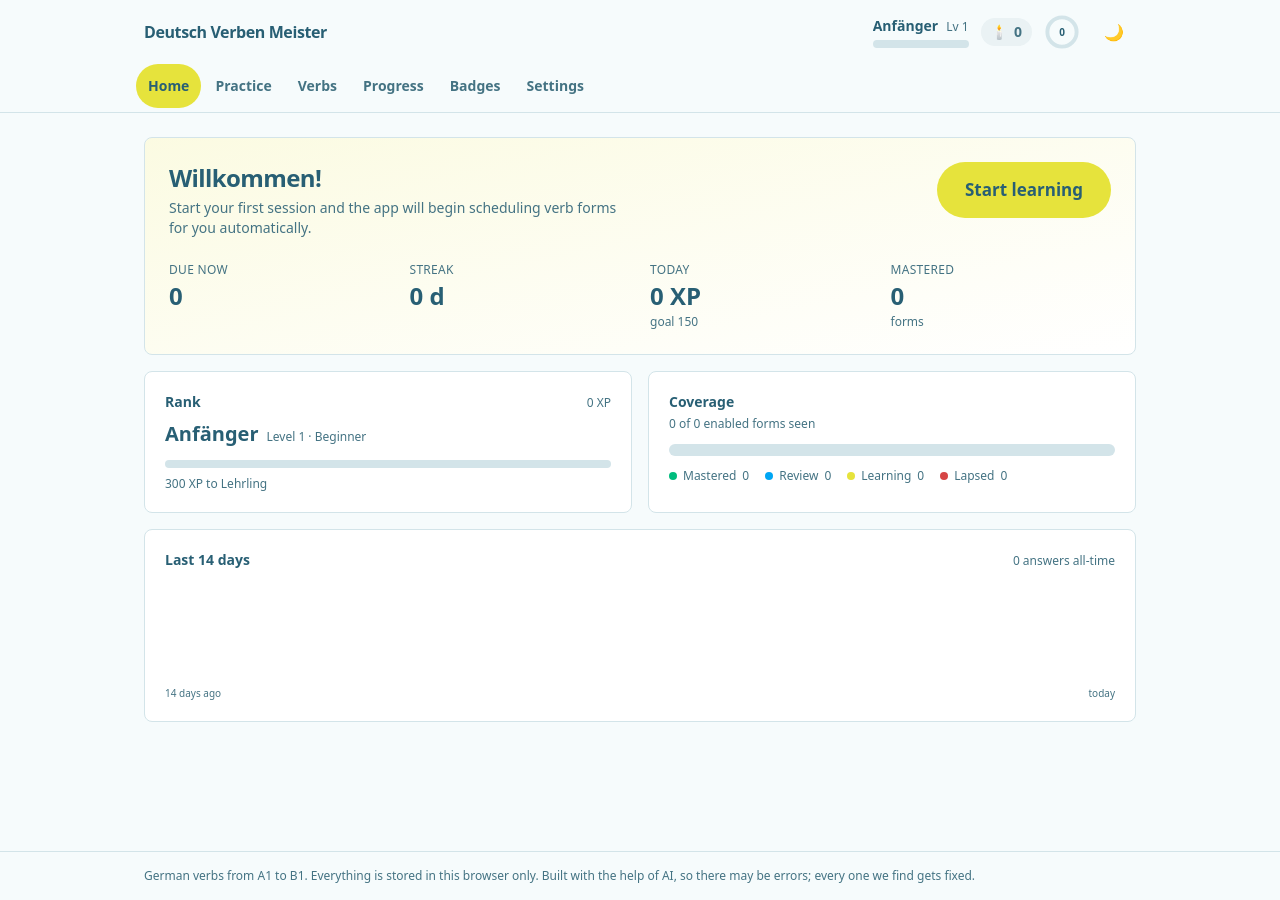
settings drive practice › warns when filters exclude every verb
Check: the heading "Willkommen!" is shown, box x1=169 y1=161 x2=321 y2=194
Click the link "Practice" at (244, 86), box x1=215 y1=76 x2=272 y2=95
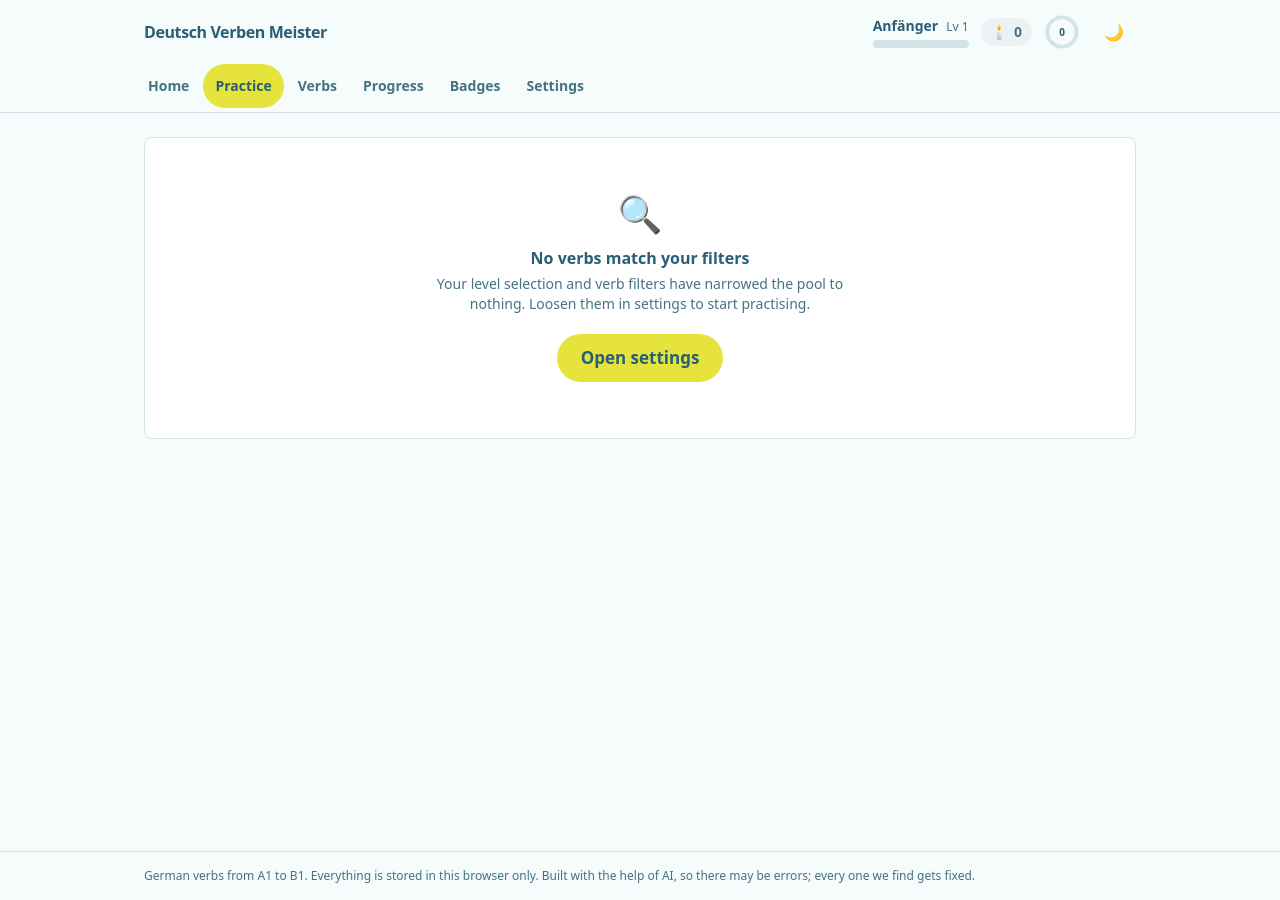
Check: the heading "No verbs match your filters" is shown, box x1=531 y1=247 x2=750 y2=269
